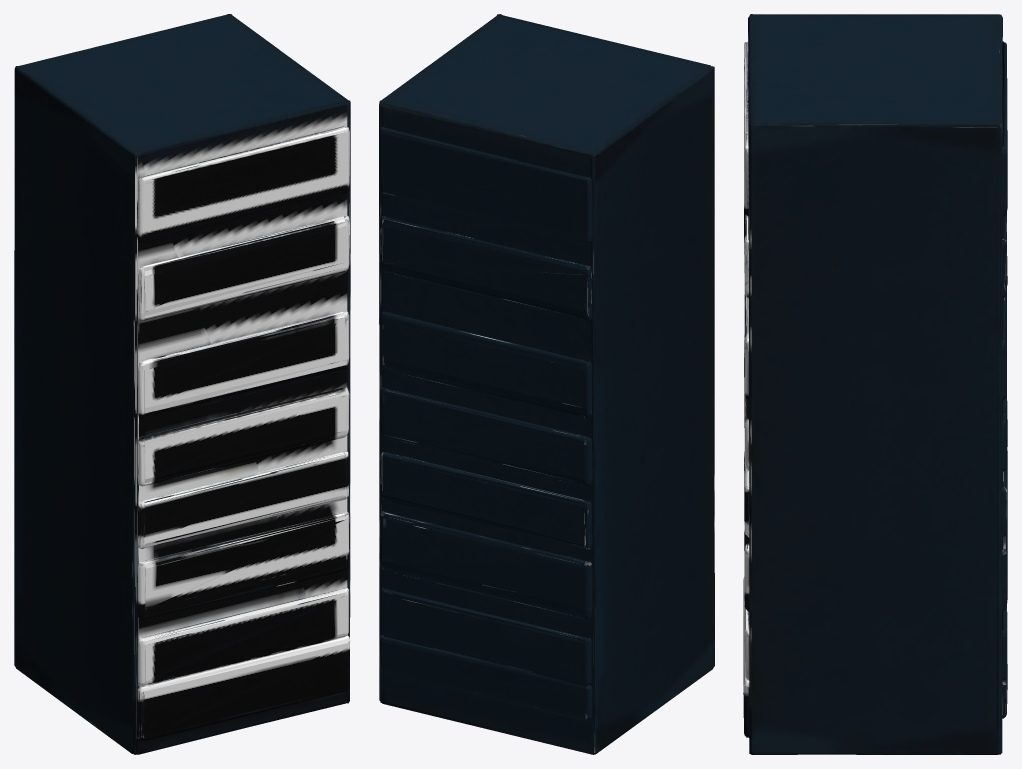
The model's file is rack.glb.
3 renders of one model, left to right at view 1: azimuth 30°, elevation 25°; view 2: azimuth 150°, elevation 25°; view 3: azimuth 270°, elevation 25°, orthographic. The views are drawn at different scales.
Bounding box in the file's own units: 0.3789 × 1 × 0.3799.
Materials: 1 (1 with a texture image).
